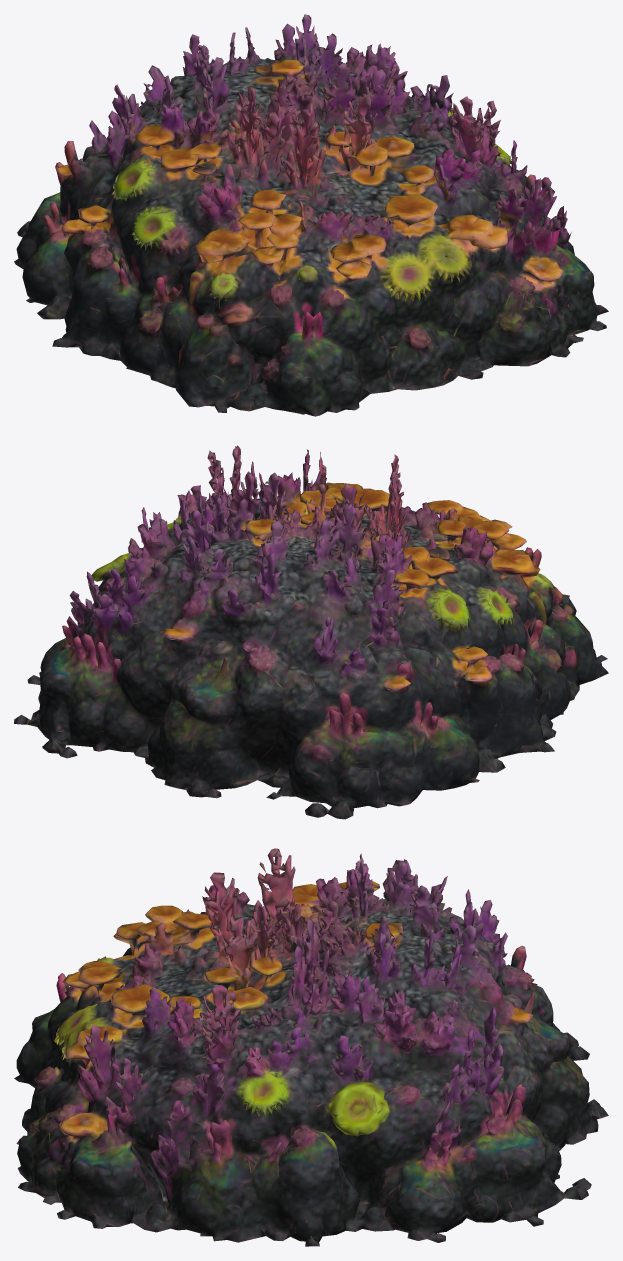
The model's file is rock_5.glb.
3 renders of one model, top to bottom at view 1: azimuth 30°, elevation 25°; view 2: azimuth 150°, elevation 25°; view 3: azimuth 270°, elevation 25°, orthographic. The views are drawn at different scales.
Visible parts, largest first — view 1: Mesh1.0; view 2: Mesh1.0; view 3: Mesh1.0.
Part boxes in pixels (x1,y1,x2,y2): Mesh1.0: [14, 14, 608, 416]; Mesh1.0: [14, 445, 608, 819]; Mesh1.0: [14, 848, 608, 1246].
Bounding box in the file's own units: 1.89 × 0.8434 × 1.89.
Materials: 1 (1 with a texture image).
